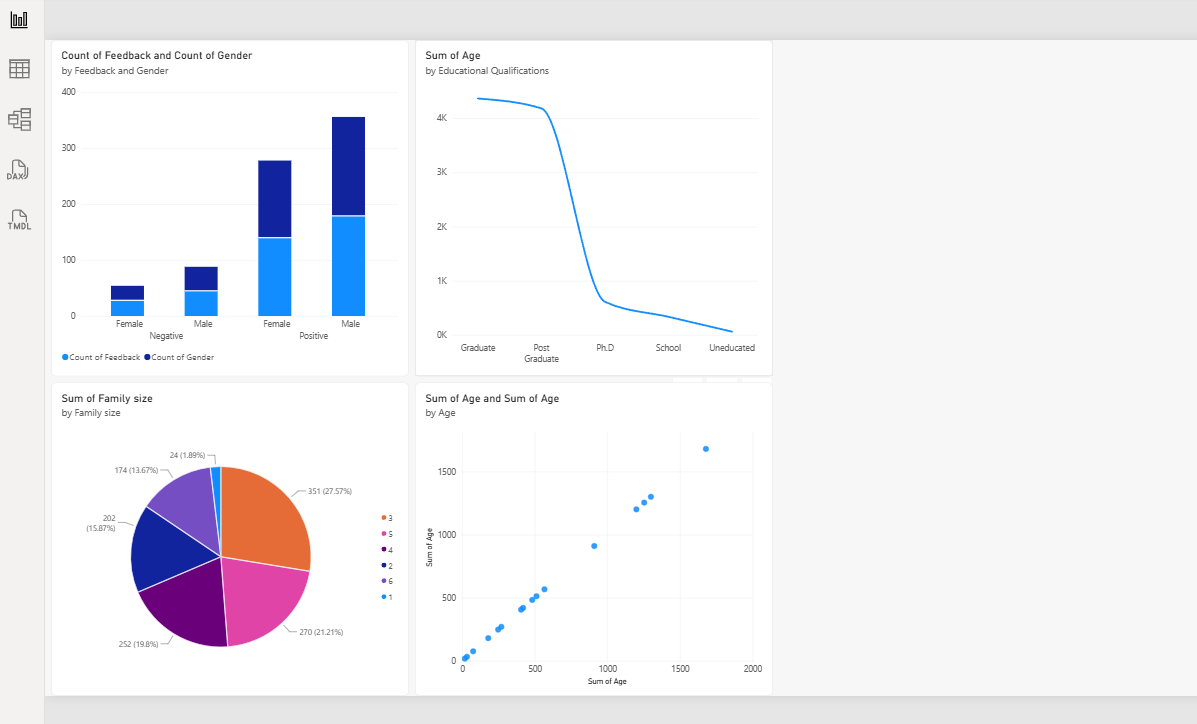

The dashboard page shown, as its layout file describes it:
{"tool":"powerbi","page":{"name":"Page 1","canvas":[1920,1080],"ordinal":0},"visuals":[{"type":"columnChart","fields":{"Category":["online food delivery dataset.Feedback","online food delivery dataset.Gender"],"Y":["CountNonNull(online food delivery dataset.Feedback)","CountNonNull(online food delivery dataset.Gender)"]},"box":[10.3,0,588.7,553.7],"z":0},{"type":"pieChart","fields":{"Category":["online food delivery dataset.Family size"],"Y":["Sum(online food delivery dataset.Family size)"]},"box":[10,564,589,516],"z":1000},{"type":"lineChart","fields":{"Category":["online food delivery dataset.Educational Qualifications"],"Y":["Sum(online food delivery dataset.Age)"]},"box":[609,0,589,554],"z":2000},{"type":"scatterChart","fields":{"Category":["online food delivery dataset.Age"],"X":["Sum(online food delivery dataset.Age)"],"Y":["Sum(online food delivery dataset.Age)"]},"box":[609,564,589,516],"z":2001}]}

Visuals, with their boxes on the page's 1920x1080 design canvas (x1, y1, x2, y2). These are canvas units, not pixel positions in the 1197x724 screenshot, which may show the page scaled, cropped or inside an application window:
columnChart - online food delivery dataset.Feedback x online food delivery dataset.Gender: rect(10, 0, 599, 554)
pieChart - online food delivery dataset.Family size x Sum(online food delivery dataset.Family size): rect(10, 564, 599, 1080)
lineChart - online food delivery dataset.Educational Qualifications x Sum(online food delivery dataset.Age): rect(609, 0, 1198, 554)
scatterChart - online food delivery dataset.Age x Sum(online food delivery dataset.Age): rect(609, 564, 1198, 1080)
